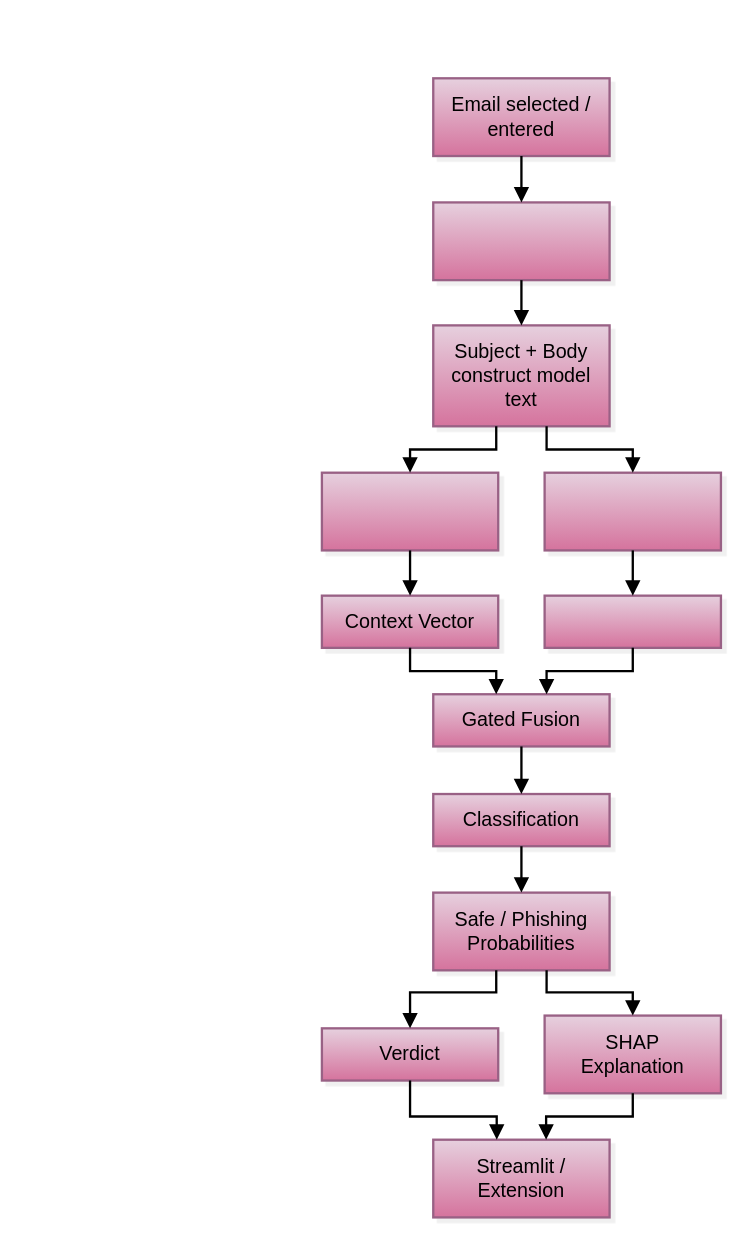
The diagram is 746 pixels wide and 1242 high, and some of its shapes have lost their labels. Here are the shapes that lost their labels. From the top down, the centre of each, then its label:
At point 523,243: "Sender + Subject + Body acquired".
At point 411,513: "DeBERTa-v3-large".
At point 634,513: "12 Engineered Features".
At point 634,623: "Feature Vector".
